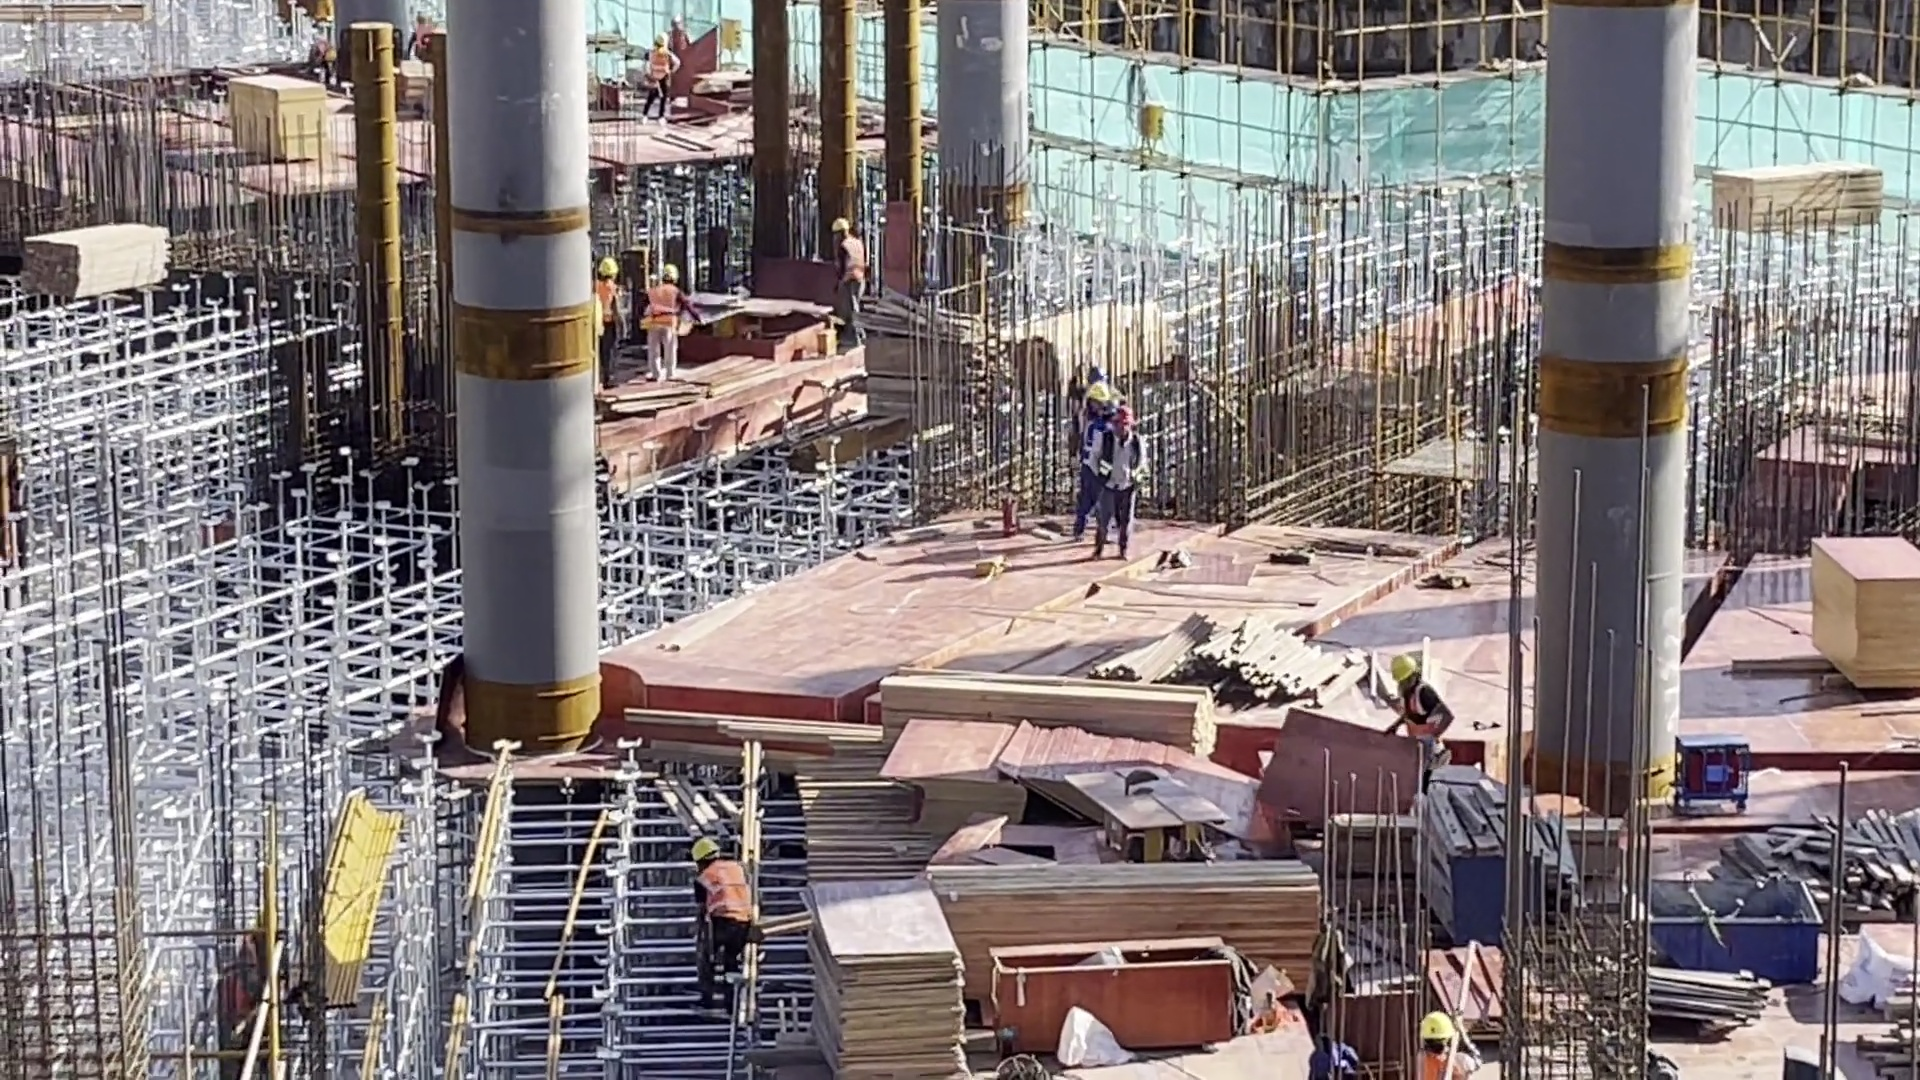board: (805, 887, 966, 1075), (1802, 527, 1920, 693), (884, 723, 1020, 855), (225, 79, 337, 175), (1419, 947, 1508, 1037)
cutter: (1052, 762, 1231, 866), (719, 296, 829, 368)
ebox: (1135, 100, 1167, 156), (720, 19, 745, 70)
helmet: (1419, 1011, 1459, 1047), (1389, 653, 1421, 683), (686, 833, 717, 860), (1109, 406, 1136, 432), (1085, 382, 1109, 405), (823, 218, 850, 235), (598, 254, 619, 277), (660, 263, 683, 281)
hopper: (1646, 878, 1820, 991)
person: (676, 826, 764, 1019), (1094, 404, 1147, 560), (1384, 649, 1449, 775), (638, 263, 696, 385), (1405, 1003, 1472, 1080), (821, 215, 869, 320), (588, 252, 623, 395), (1079, 383, 1108, 536), (642, 32, 677, 122)
vest: (690, 860, 761, 923), (1402, 683, 1453, 752), (830, 239, 870, 282), (648, 284, 680, 330), (592, 282, 619, 327), (649, 47, 669, 87)
wood: (917, 861, 1322, 946), (875, 664, 1217, 753), (1093, 609, 1401, 702), (1714, 810, 1920, 927), (853, 301, 994, 433), (1004, 296, 1172, 389), (1707, 156, 1887, 226), (1, 233, 151, 315), (1848, 978, 1920, 1080)
